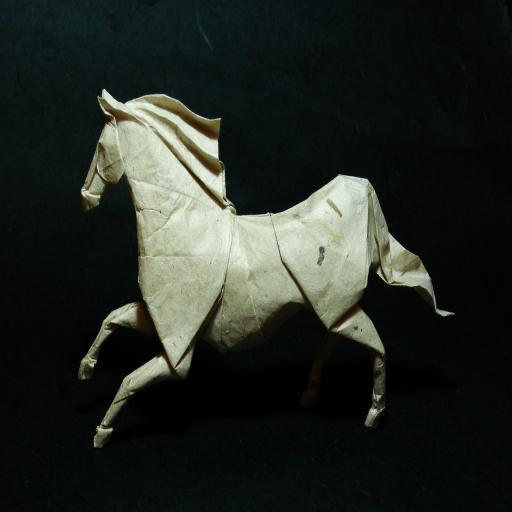horse: (76, 86, 458, 450)
